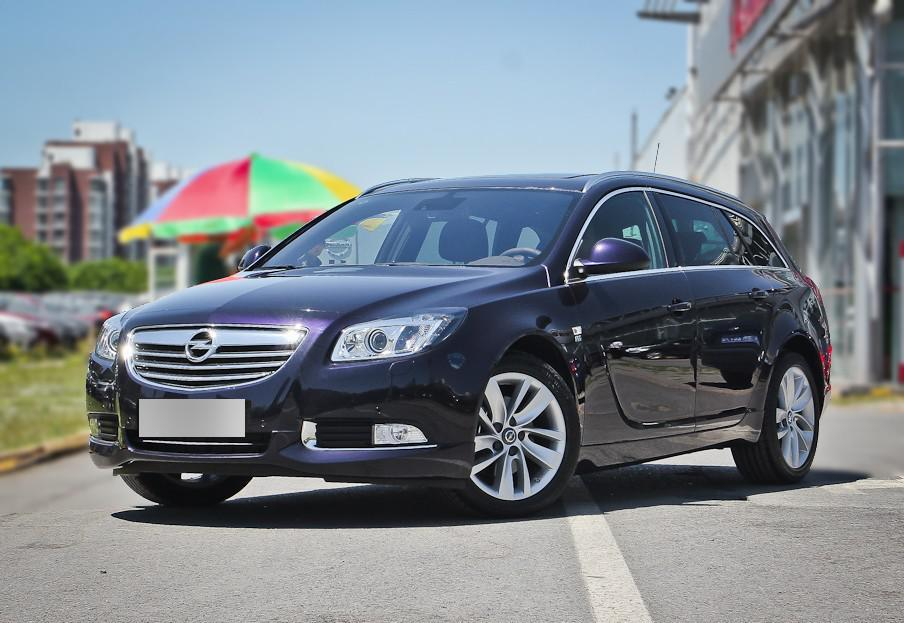Wagon: (85, 170, 834, 519)
